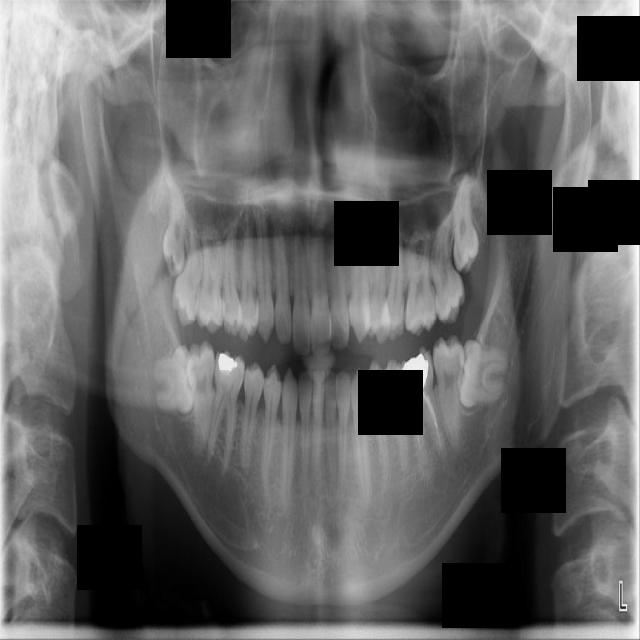3M ESPE Implant: (162, 174, 189, 278)
52: (210, 350, 248, 398), (399, 347, 434, 399)
73: (405, 381, 449, 468), (597, 580, 605, 589)
BioHorizons Implant: (425, 220, 468, 326)
BioLife Implant: (449, 175, 481, 276)
Biomet 3i Implant: (456, 339, 509, 412)
Blue Sky Bio Implant: (433, 335, 465, 448)
Caries: (169, 208, 209, 329)
Implant: (186, 341, 215, 444)
Keystone Dental Implant: (152, 346, 199, 414)
